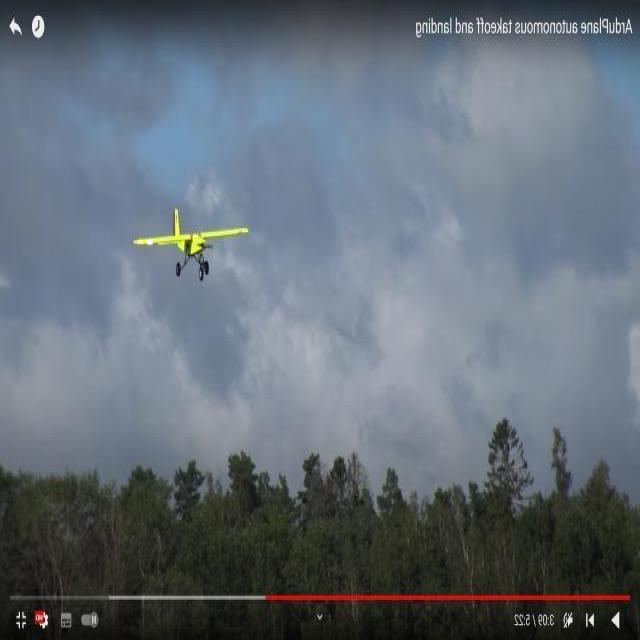Airplane: (130, 204, 252, 286)
